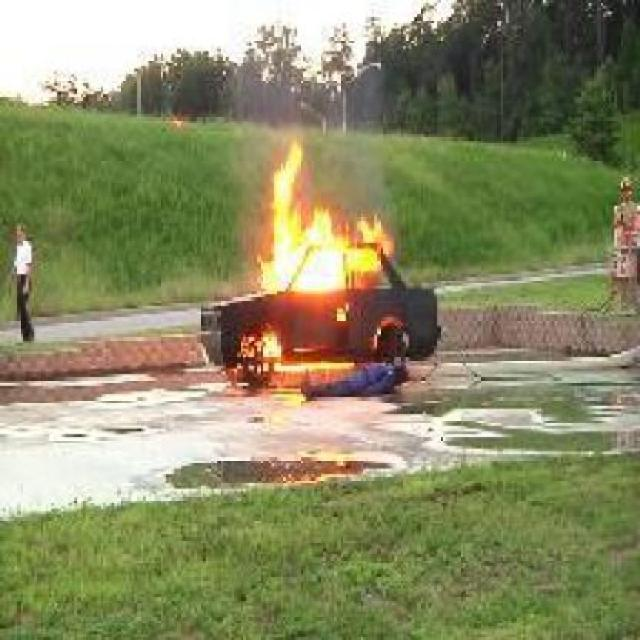Fire: (200, 135, 438, 394)
